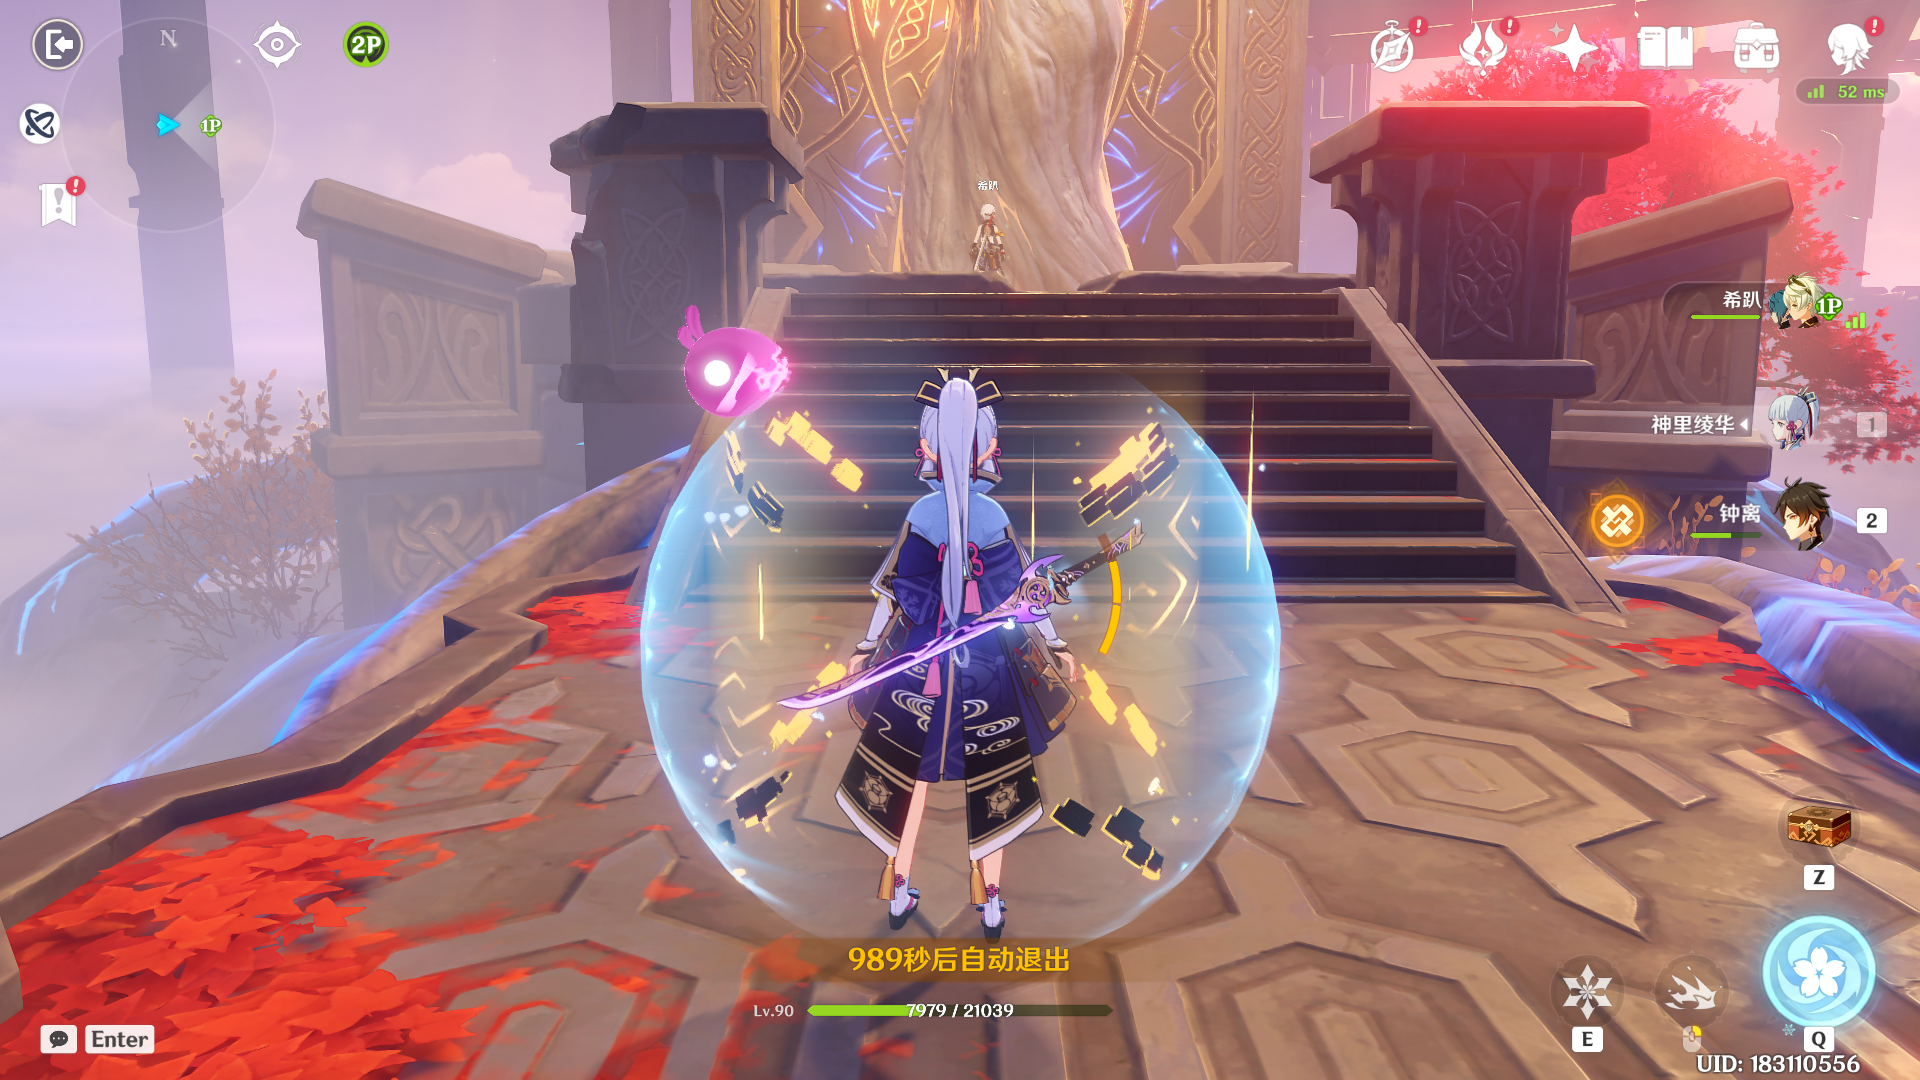character: (732, 371, 1218, 986), (949, 175, 1029, 295)
